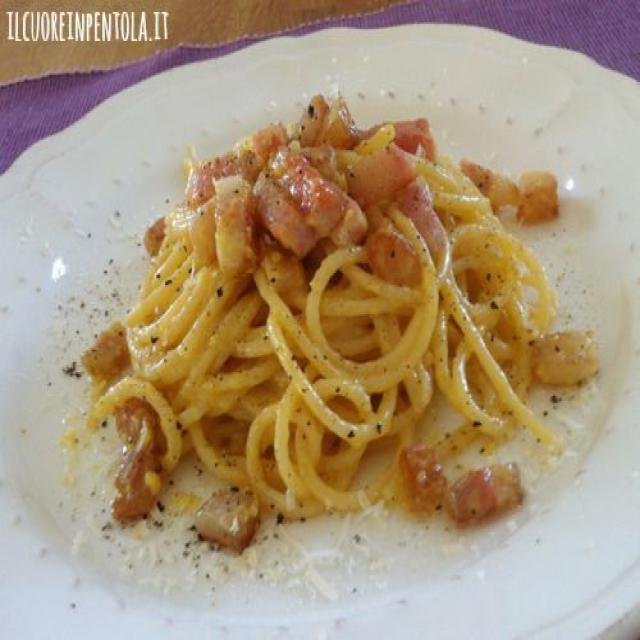Pasta with carbonara sauce: (110, 79, 617, 599)
